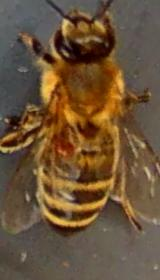varroa_mite: (46, 134, 78, 162)
